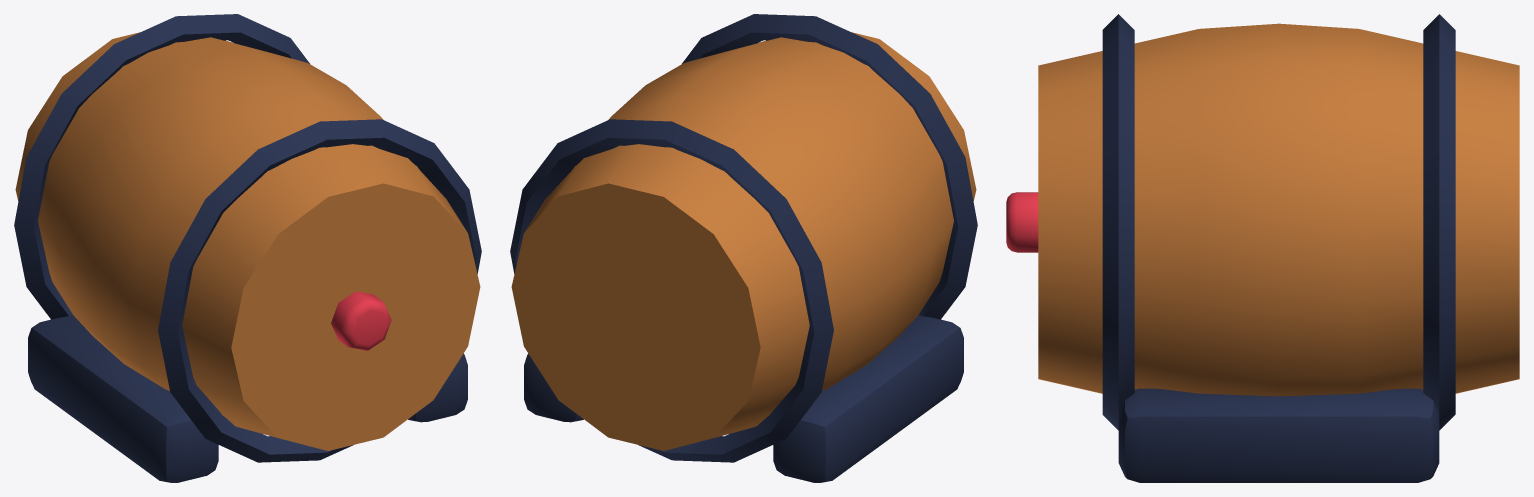
The model's file is W1_Barrel_C.fbx.
The picture shows the model from 3 angles, left to right: view 1: azimuth 30°, elevation 25°; view 2: azimuth 150°, elevation 25°; view 3: azimuth 270°, elevation 25°; orthographic projection. The views are drawn at different scales.
Parts seen in each view (by area): view 1: W1_Barrel_C; view 2: W1_Barrel_C; view 3: W1_Barrel_C.
Boxes of the visible parts, x1,y1,x2,y2 form: W1_Barrel_C: (14, 14, 481, 482); W1_Barrel_C: (510, 14, 977, 482); W1_Barrel_C: (1006, 14, 1519, 482).
Size of the model in its own units: 0.78 by 0.78 by 0.96.
